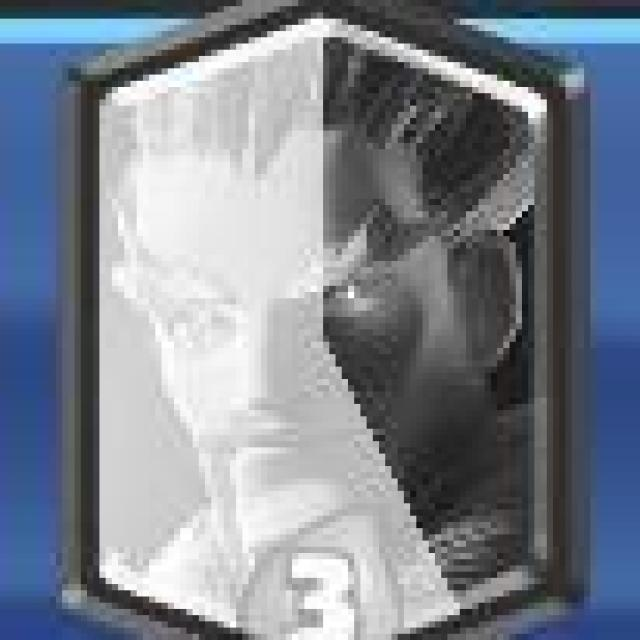Ice_Wizard: (73, 0, 587, 640)
